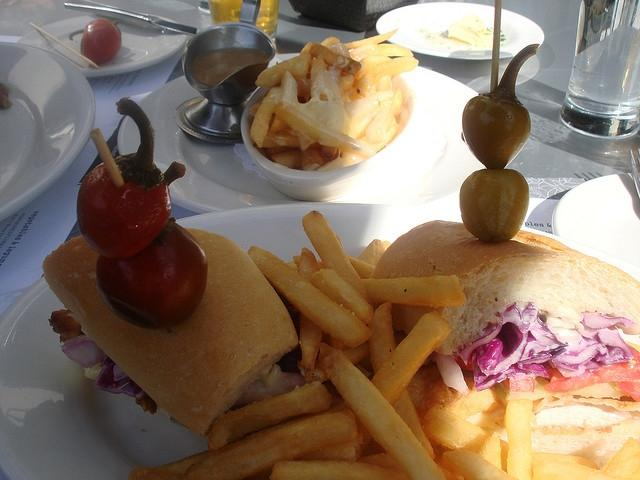tomato: (76, 96, 171, 258), (96, 218, 208, 328), (458, 168, 530, 244), (544, 346, 640, 392), (81, 18, 122, 64), (616, 381, 640, 402)
